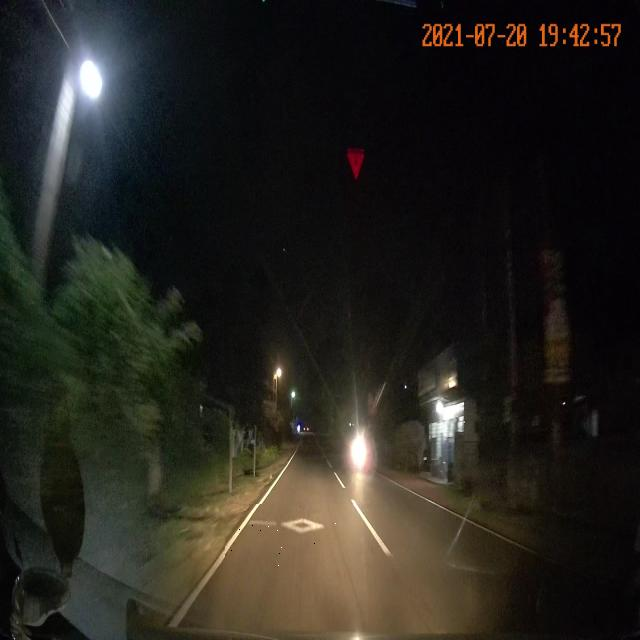diamond: (225, 504, 392, 566)
